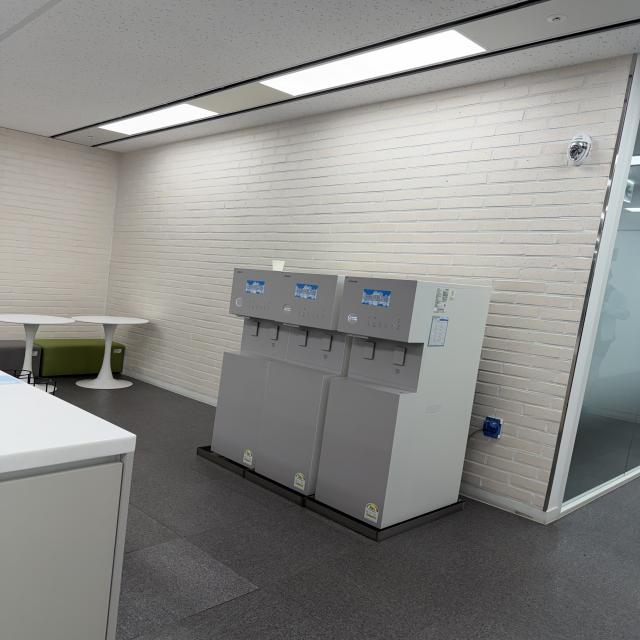water_dispenser: (212, 267, 490, 540)
